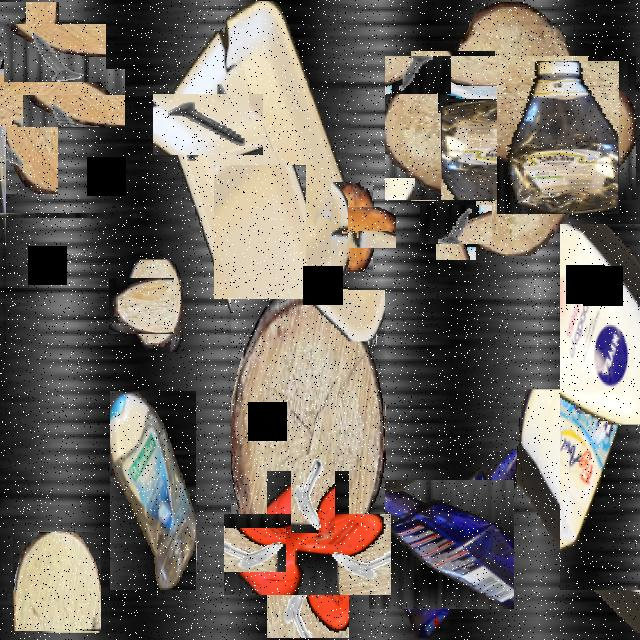glass: (411, 51, 495, 201), (579, 354, 640, 464)
metal: (165, 81, 251, 168), (15, 13, 95, 94), (231, 261, 277, 343), (291, 455, 335, 533), (428, 196, 484, 252)
plastic: (174, 2, 348, 340), (514, 390, 640, 638), (560, 224, 640, 590), (383, 464, 542, 624), (489, 68, 627, 206), (110, 391, 196, 590), (246, 492, 370, 617), (0, 142, 75, 287)
wood: (411, 29, 609, 227), (231, 290, 385, 524), (214, 166, 306, 300), (0, 35, 91, 160), (13, 532, 101, 631), (117, 269, 191, 343), (319, 195, 385, 260)
